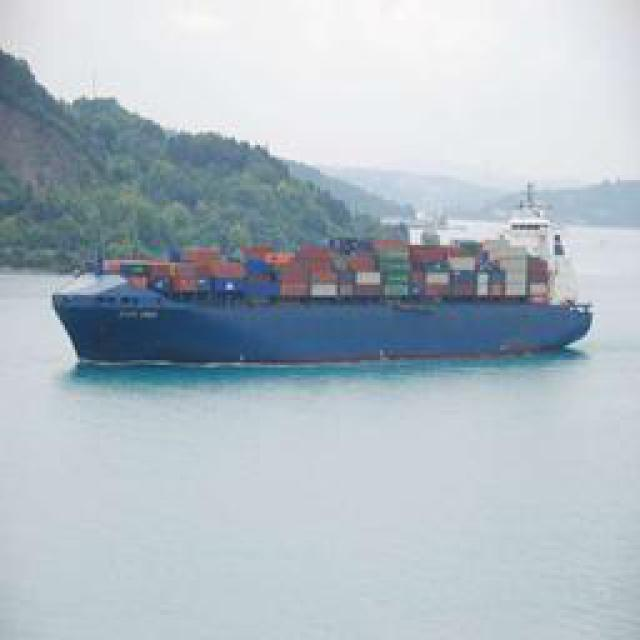Ship: (53, 185, 598, 373)
